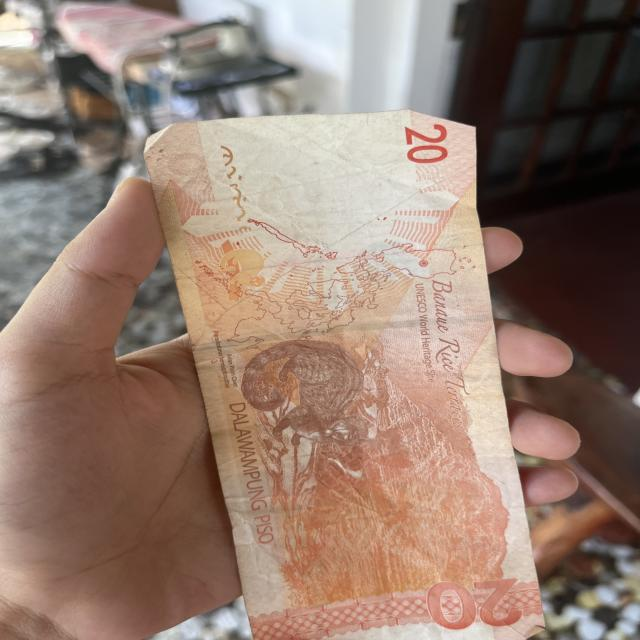20_civet: (247, 339, 366, 455)
20_civet_watermark: (217, 248, 277, 304)
